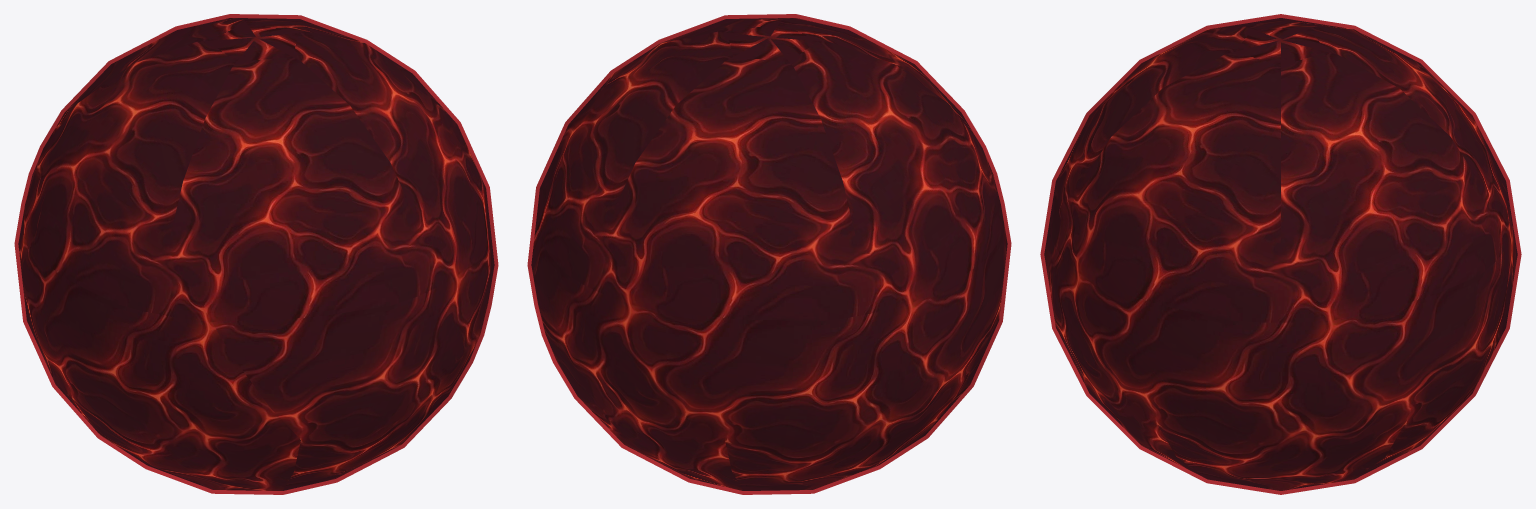
File: ball.glb
The picture shows the model from 3 angles, left to right: view 1: azimuth 30°, elevation 25°; view 2: azimuth 150°, elevation 25°; view 3: azimuth 270°, elevation 25°; orthographic projection.
Parts seen in each view (by area): view 1: Ball1; view 2: Ball1; view 3: Ball1.
Part boxes in pixels (x1,y1,x2,y2): Ball1: (14, 14, 498, 494); Ball1: (527, 14, 1011, 494); Ball1: (1040, 14, 1521, 494).
Bounding box in the file's own units: 6.27 × 6.27 × 6.27.
1 material, 1 textured.
